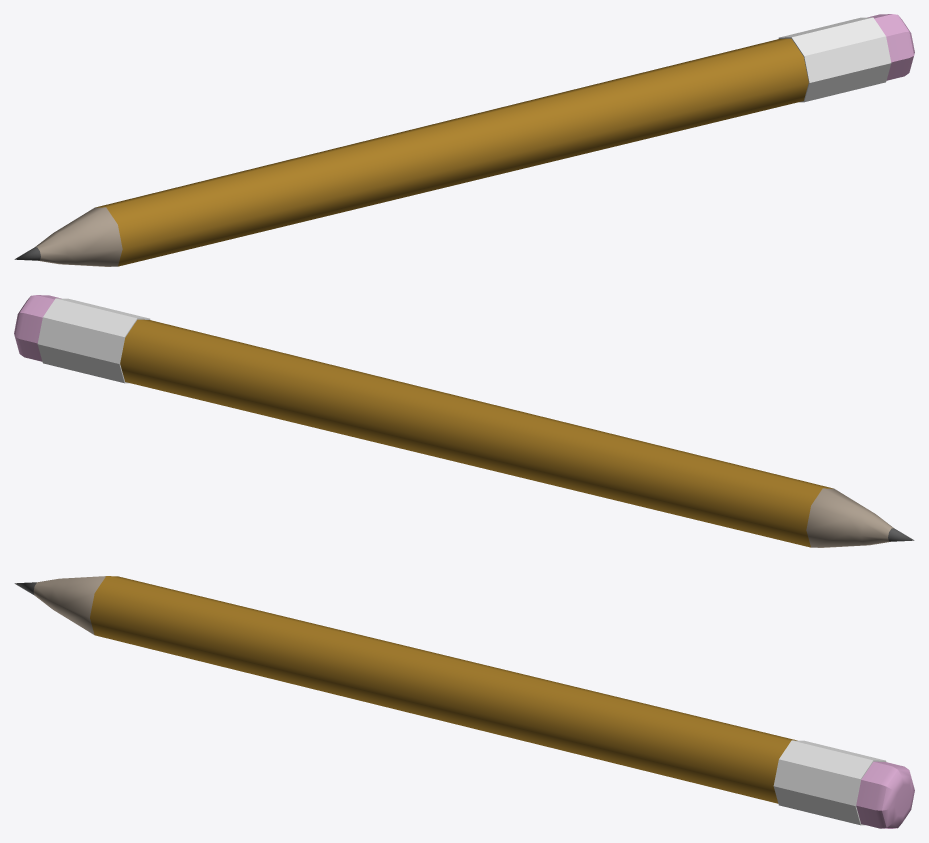
Rendered from pencilUpdated.fbx.
The picture shows the model from 3 angles, top to bottom: view 1: azimuth 30°, elevation 25°; view 2: azimuth 150°, elevation 25°; view 3: azimuth 330°, elevation 25°; orthographic projection.
Parts seen in each view (by area): view 1: pencil; view 2: pencil; view 3: pencil.
Part boxes in pixels (x1=…): pencil: x1=14, y1=14, x2=914, y2=266; pencil: x1=14, y1=295, x2=914, y2=547; pencil: x1=14, y1=576, x2=914, y2=828.
Size of the model in its own units: 8.02 by 0.5617 by 0.5617.
